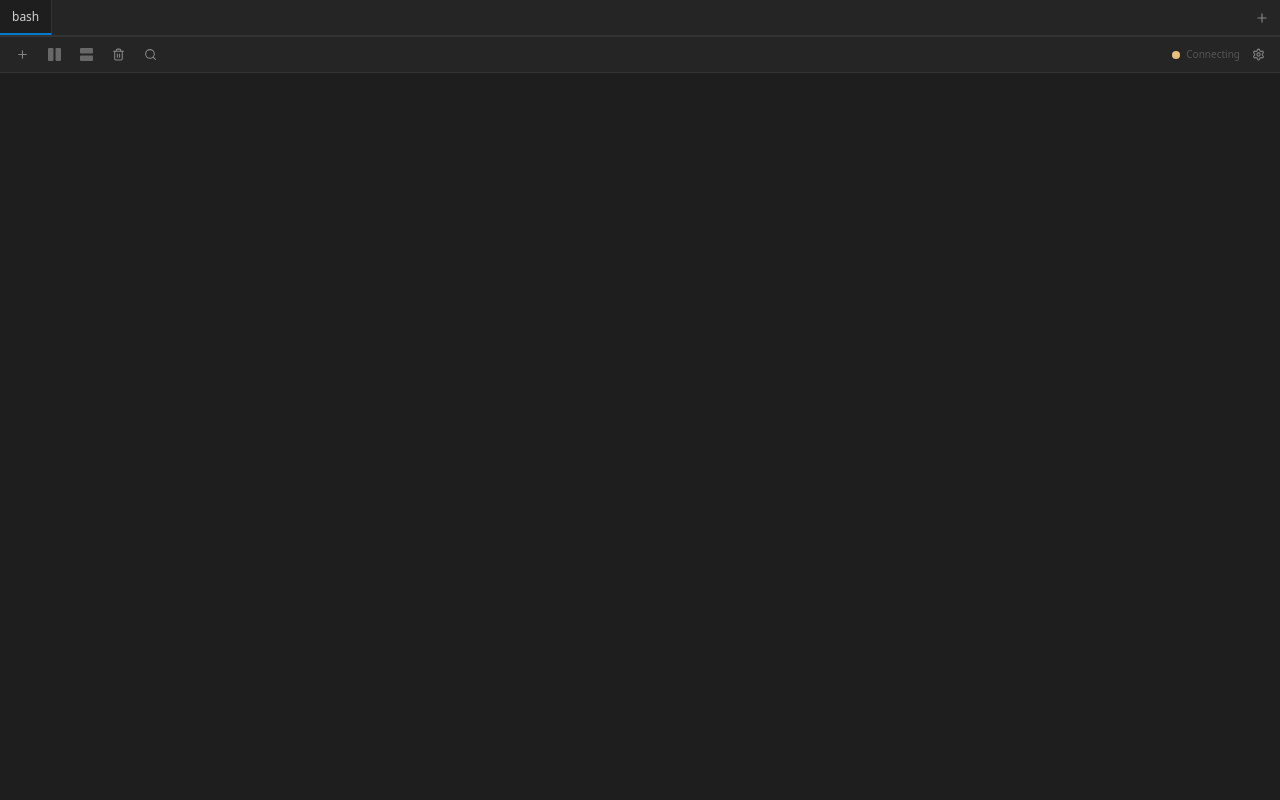
it: Terminal Component › settings panel toggles on gear click
Expected: the dialog "settings" is not shown
Click the button titled "Settings": (1258,54) [1244,40,1272,68]
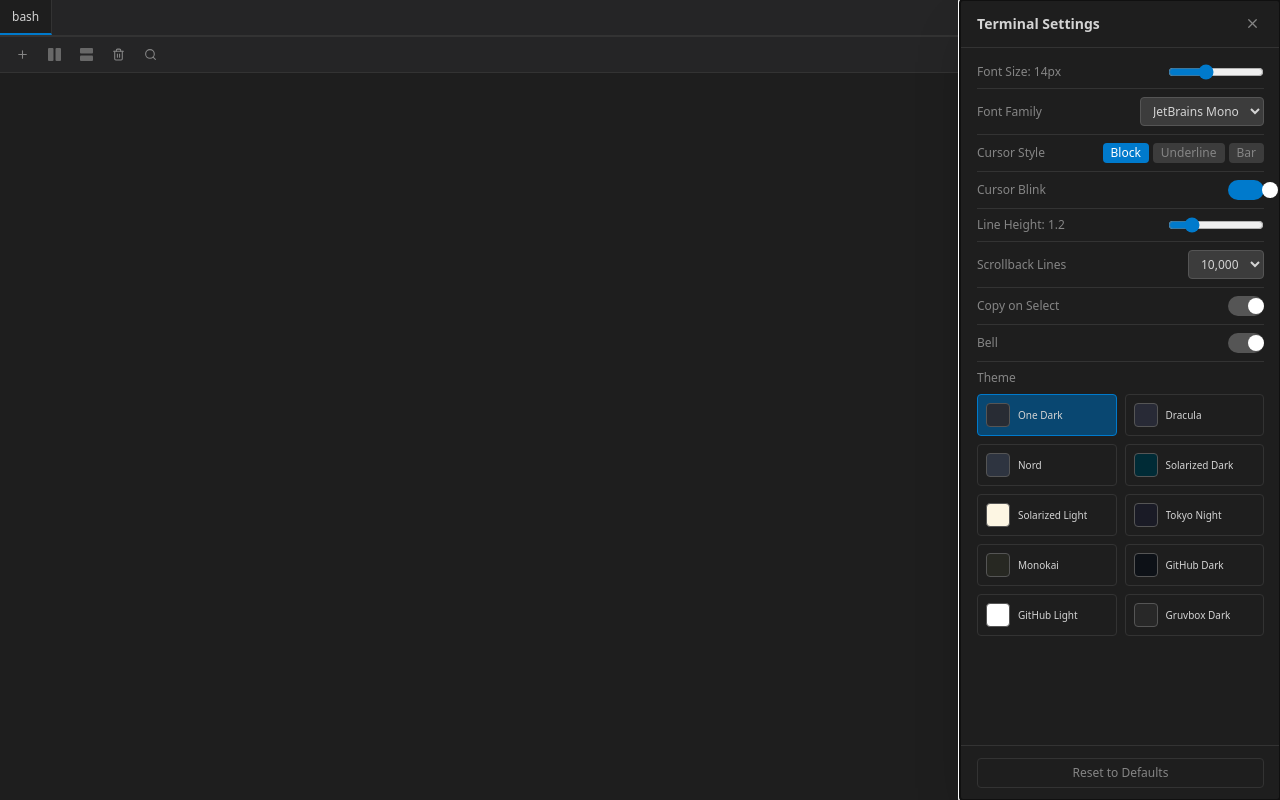
Expected: the dialog "Settings" is shown, [960,0,1279,799]
